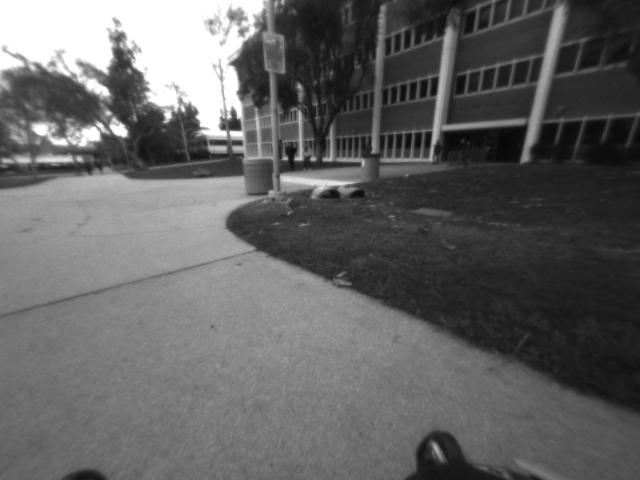trashcan: (238, 153, 278, 196), (357, 150, 384, 187)
